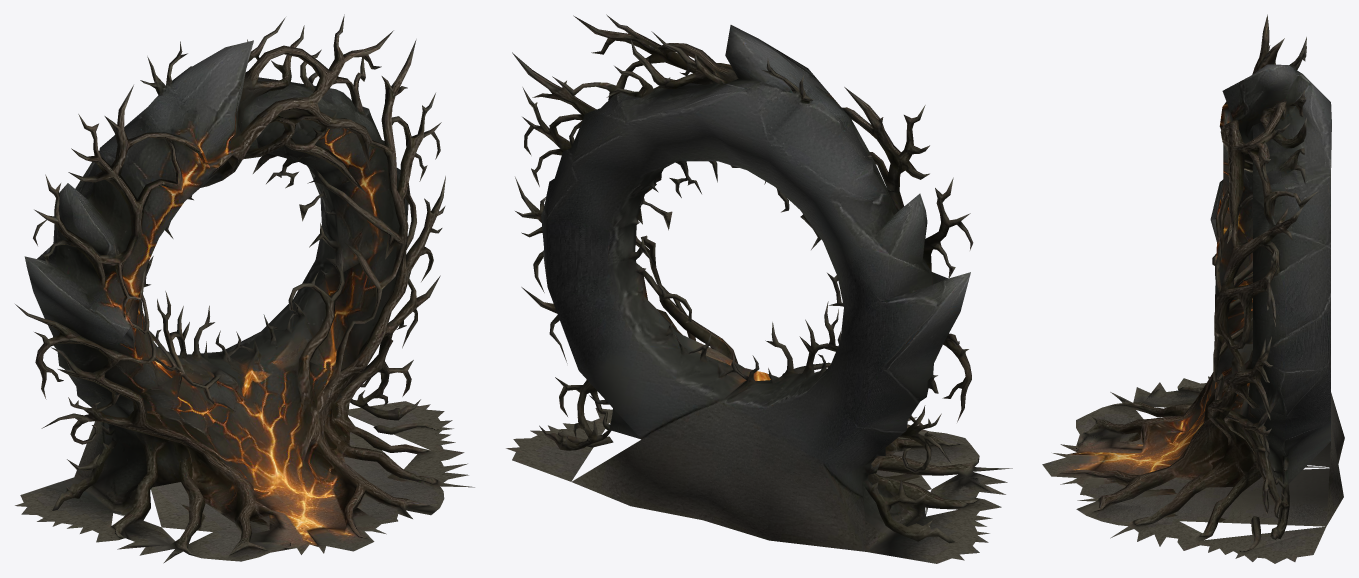
The model's file is selected.glb.
The picture shows the model from 3 angles, left to right: view 1: azimuth 30°, elevation 25°; view 2: azimuth 150°, elevation 25°; view 3: azimuth 270°, elevation 25°; orthographic projection. The views are drawn at different scales.
Visible parts, largest first — view 1: tripo_node_567eb999-dd13-4196-a1db-c13201ab2490; view 2: tripo_node_567eb999-dd13-4196-a1db-c13201ab2490; view 3: tripo_node_567eb999-dd13-4196-a1db-c13201ab2490.
Part boxes in pixels (x1,y1,x2,y2): tripo_node_567eb999-dd13-4196-a1db-c13201ab2490: (15, 14, 474, 563); tripo_node_567eb999-dd13-4196-a1db-c13201ab2490: (506, 14, 1012, 563); tripo_node_567eb999-dd13-4196-a1db-c13201ab2490: (1042, 14, 1344, 563).
Bounding box in the file's own units: 0.998 × 0.9473 × 0.6426.
Materials: 1 (1 with a texture image).
